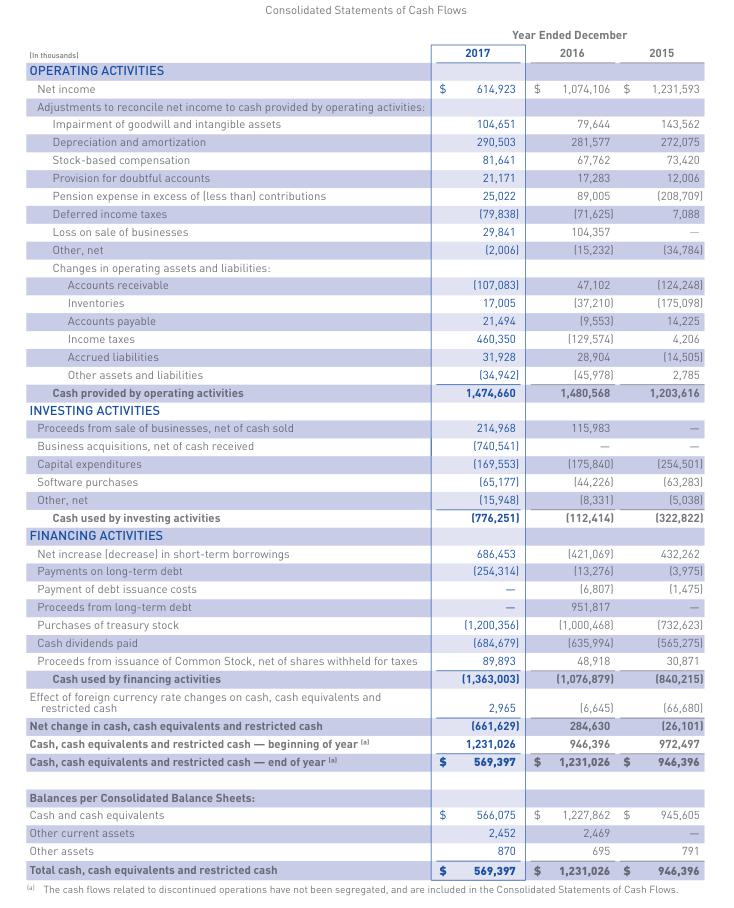table: (28, 29, 702, 876)
table column: (28, 29, 427, 876), (427, 29, 525, 876), (525, 29, 617, 876), (617, 29, 702, 876)
table column header: (28, 29, 702, 61)
table projected row header: (28, 779, 702, 806), (28, 61, 702, 80), (28, 97, 702, 115), (28, 258, 702, 276), (28, 401, 702, 419), (28, 526, 702, 544)
table row: (28, 687, 702, 717), (28, 752, 702, 779), (28, 779, 702, 806), (28, 61, 702, 80), (28, 43, 702, 61), (28, 97, 702, 115), (28, 115, 702, 133), (28, 133, 702, 151), (28, 151, 702, 169), (28, 169, 702, 187), (28, 204, 702, 222), (28, 222, 702, 240), (28, 240, 702, 258), (28, 258, 702, 276), (28, 276, 702, 294), (28, 294, 702, 312), (28, 312, 702, 330), (28, 347, 702, 365), (28, 365, 702, 383), (28, 383, 702, 401), (28, 401, 702, 419), (28, 419, 702, 437), (28, 437, 702, 455), (28, 455, 702, 473), (28, 490, 702, 508), (28, 508, 702, 526), (28, 526, 702, 544), (28, 544, 702, 562), (28, 562, 702, 580), (28, 580, 702, 598), (28, 598, 702, 616), (28, 616, 702, 634), (28, 651, 702, 669), (28, 669, 702, 687), (28, 734, 702, 752), (28, 806, 702, 824), (28, 824, 702, 842), (28, 842, 702, 860), (28, 80, 702, 97), (28, 187, 702, 204), (28, 330, 702, 347), (28, 473, 702, 490), (28, 634, 702, 651), (28, 717, 702, 734), (28, 860, 702, 876), (28, 29, 702, 43)
table spanning cell: (28, 29, 427, 61), (427, 29, 702, 43)
